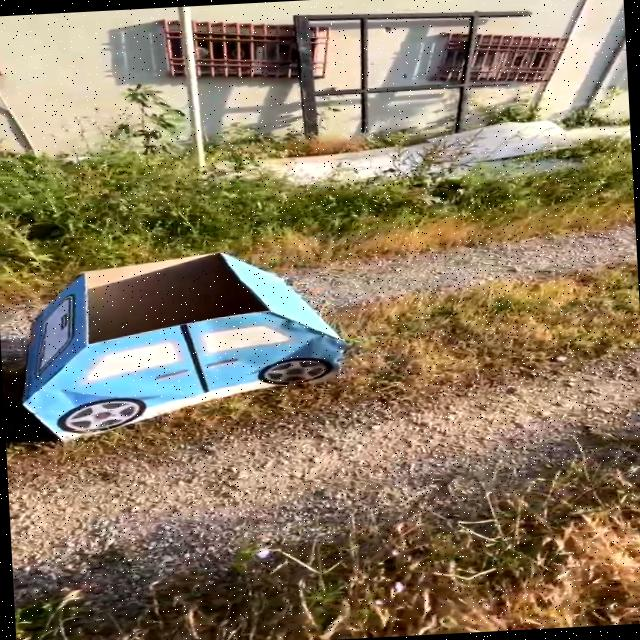blue_car: (0, 223, 379, 456)
